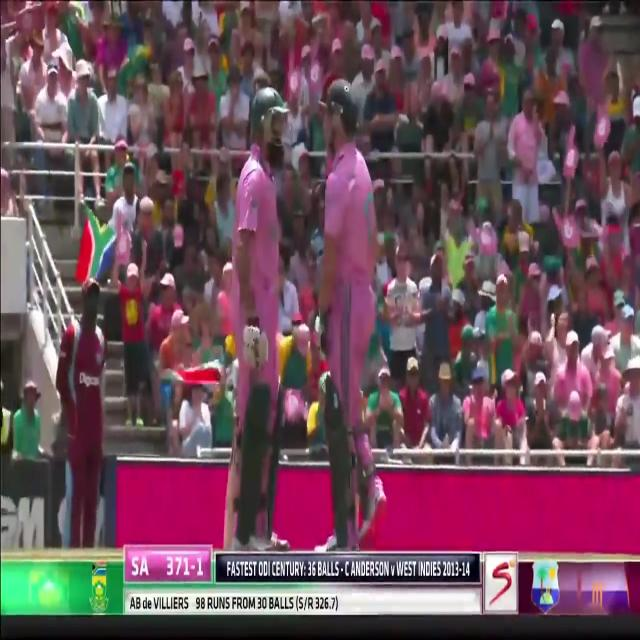Ball: (291, 80, 393, 554), (213, 74, 307, 555)
Fielder: (51, 277, 113, 549)
